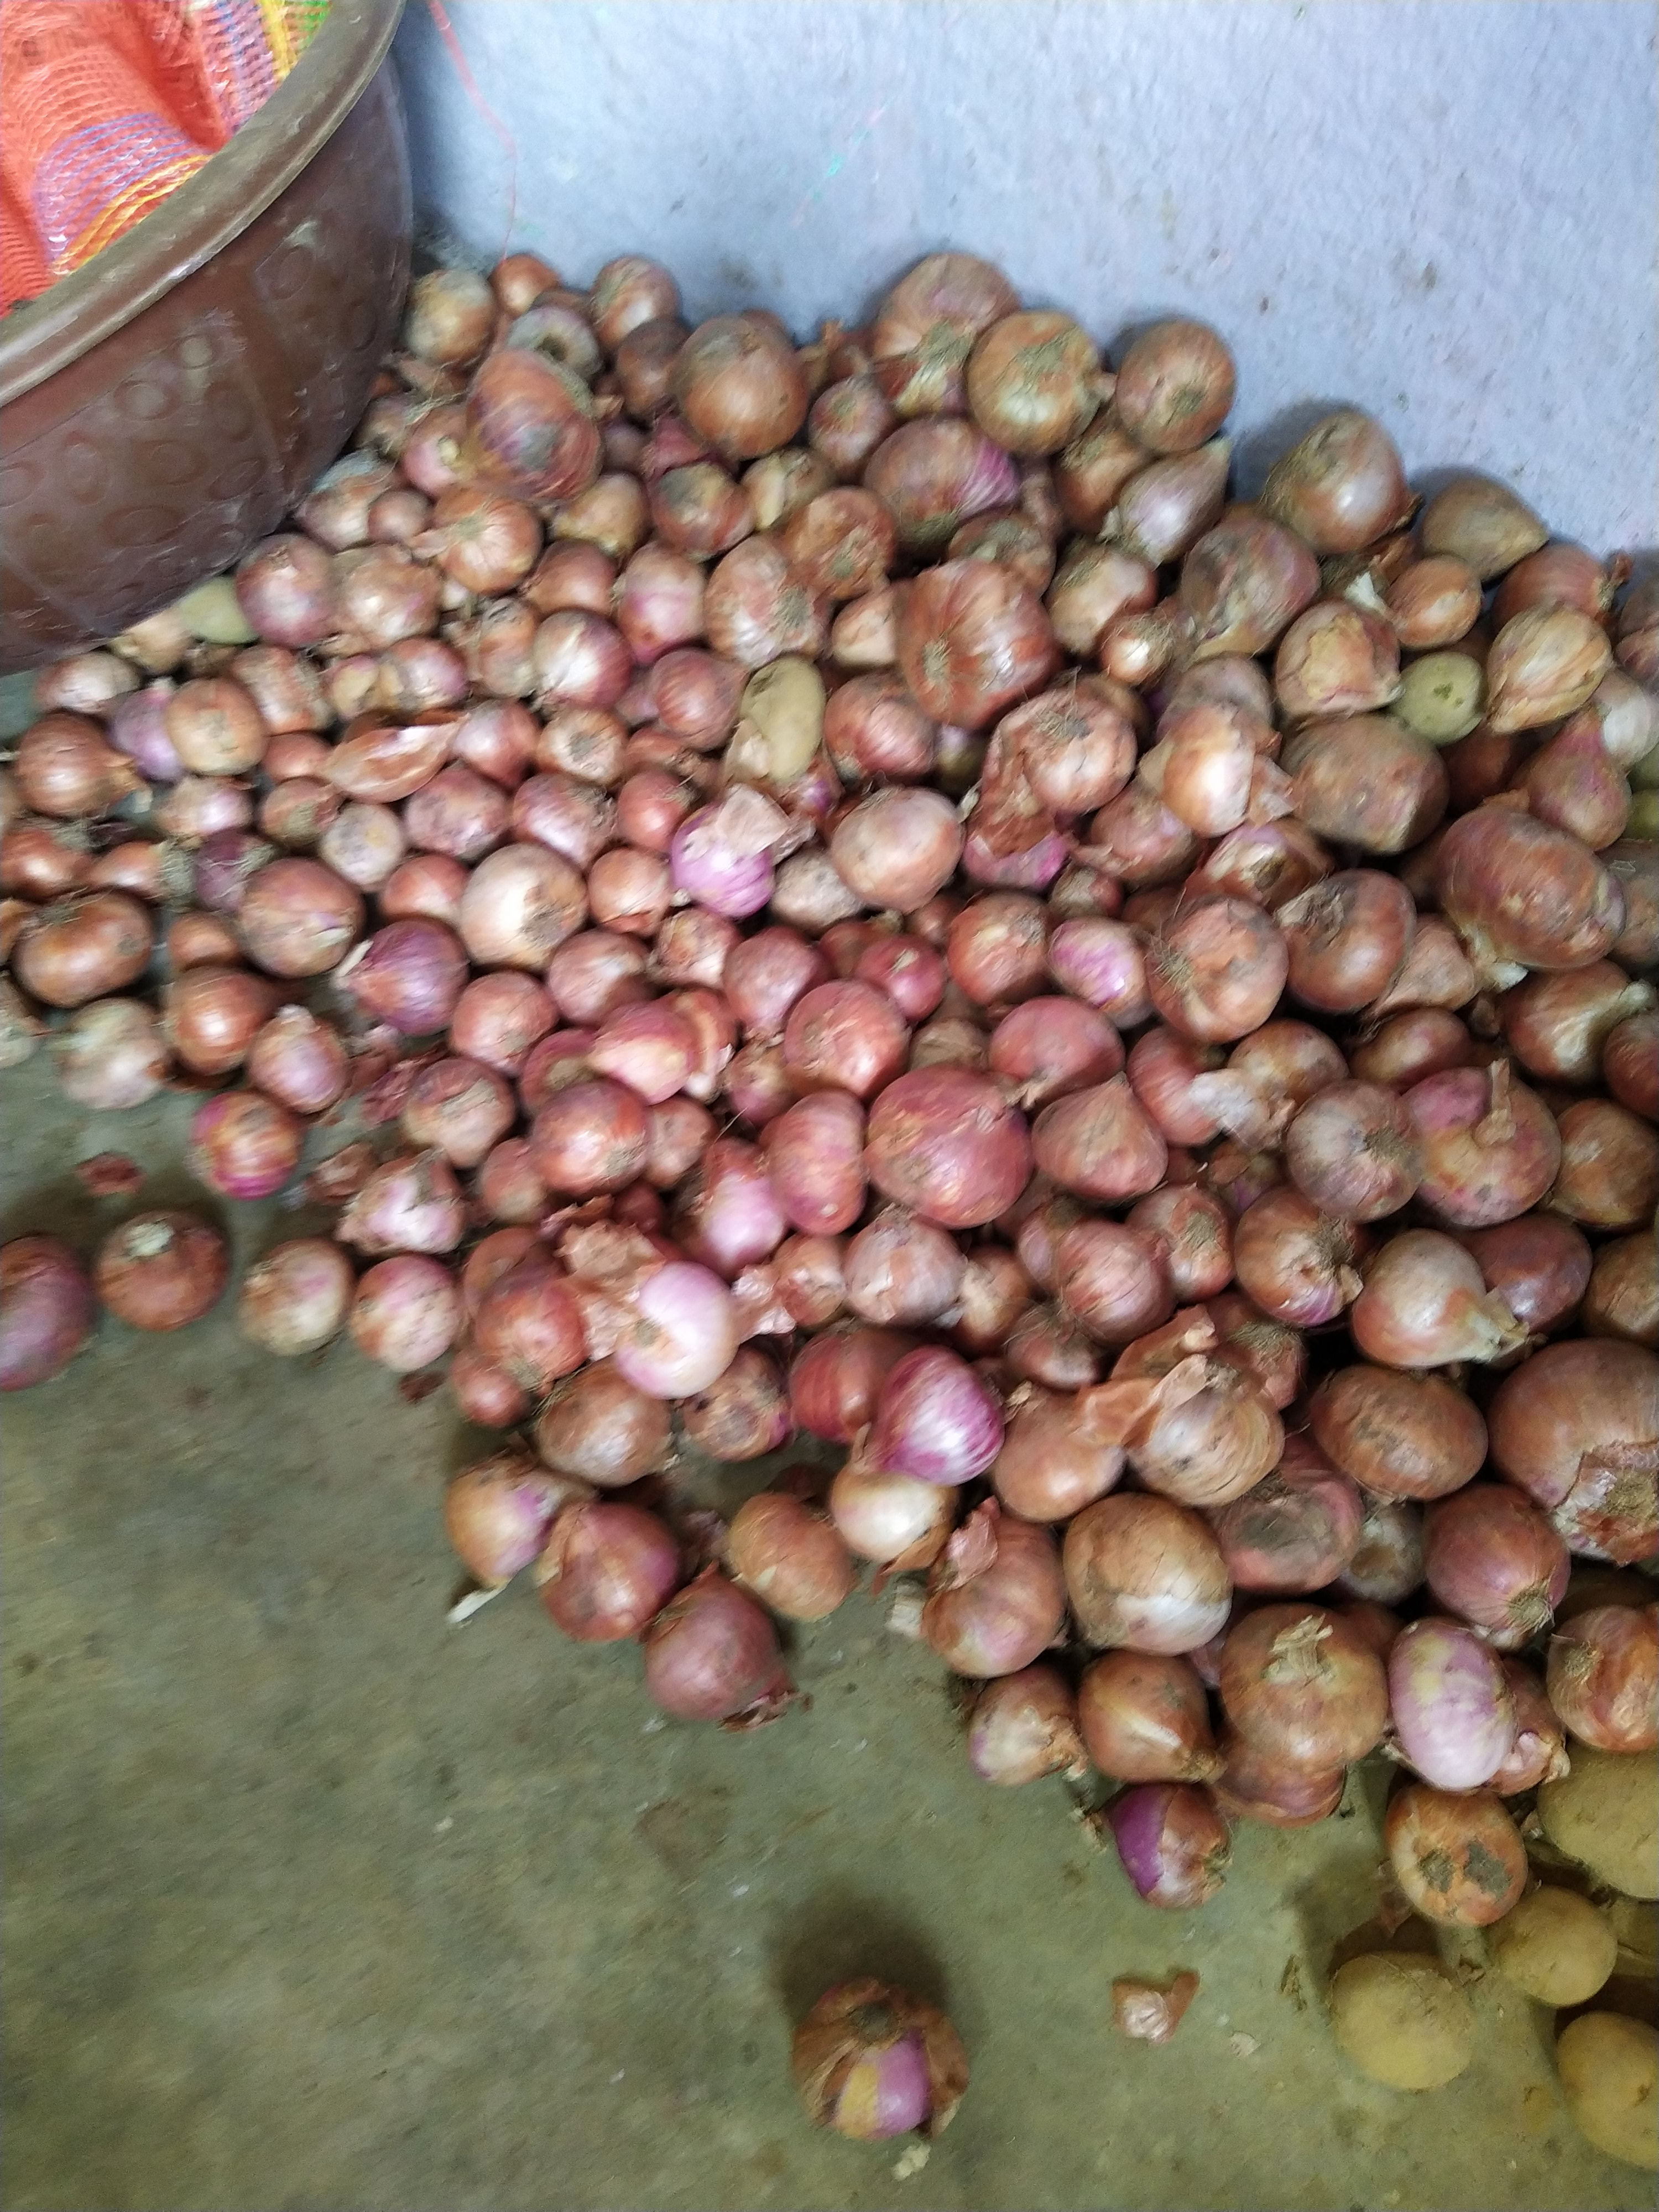food: (0, 235, 1659, 2186)
